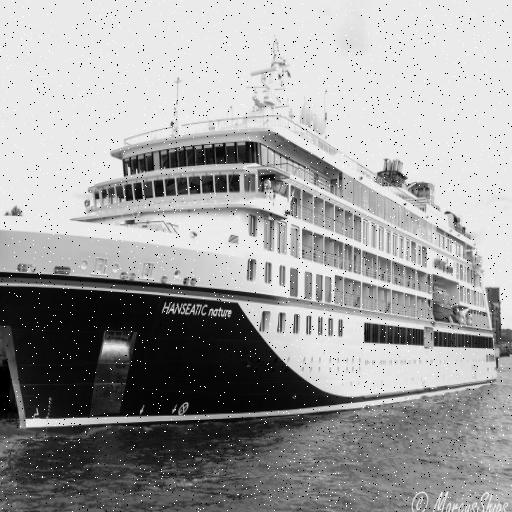cruises: (1, 62, 502, 452)
